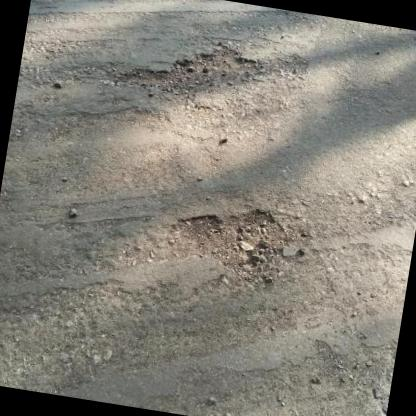pothole: (112, 27, 268, 115), (164, 192, 292, 294)
